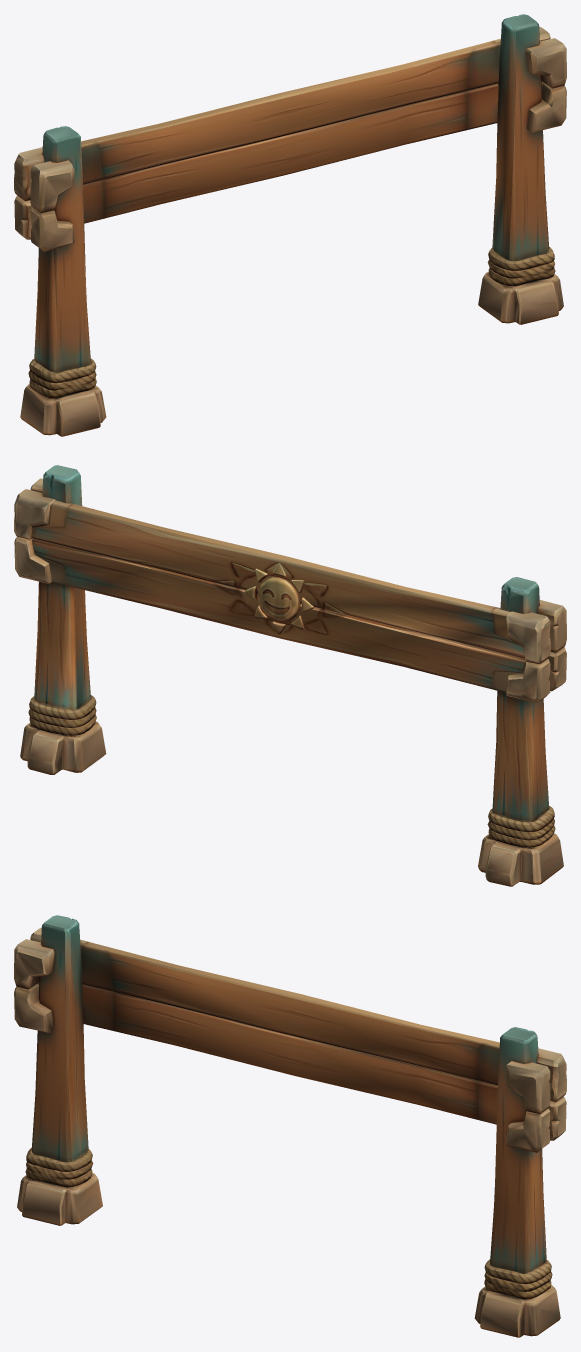
The model's file is asset.glb.
3 renders of one model, top to bottom at view 1: azimuth 30°, elevation 25°; view 2: azimuth 150°, elevation 25°; view 3: azimuth 330°, elevation 25°, orthographic.
Visible parts, largest first — view 1: tripo_node_94b2abda-be71-4456-9f23-217706d11cc7; view 2: tripo_node_94b2abda-be71-4456-9f23-217706d11cc7; view 3: tripo_node_94b2abda-be71-4456-9f23-217706d11cc7.
Part boxes in pixels (box(x1,y1,x2,y2)): tripo_node_94b2abda-be71-4456-9f23-217706d11cc7: box(14, 14, 566, 436); tripo_node_94b2abda-be71-4456-9f23-217706d11cc7: box(14, 465, 566, 886); tripo_node_94b2abda-be71-4456-9f23-217706d11cc7: box(14, 915, 566, 1337).
Bounding box in the file's own units: 81.32 × 42.12 × 11.
1 material, 1 textured.
